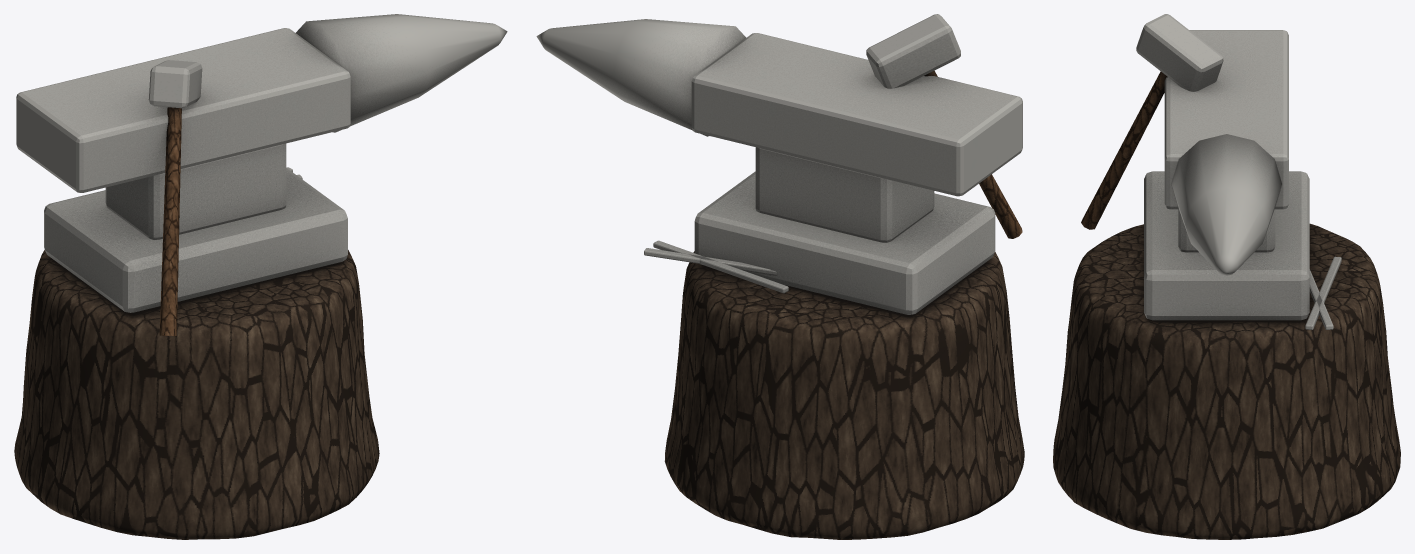
File: escoria_bigorna.glb
The picture shows the model from 3 angles, left to right: view 1: azimuth 30°, elevation 25°; view 2: azimuth 150°, elevation 25°; view 3: azimuth 270°, elevation 25°; orthographic projection. The views are drawn at different scales.
Parts seen in each view (by area): view 1: escoria_bigorna_tronco; view 2: escoria_bigorna_tronco; view 3: escoria_bigorna_tronco.
Part boxes in pixels (x1=…): escoria_bigorna_tronco: x1=14, y1=14, x2=507, y2=539; escoria_bigorna_tronco: x1=536, y1=14, x2=1024, y2=539; escoria_bigorna_tronco: x1=1053, y1=14, x2=1400, y2=539.
Size of the model in its own units: 1.88 by 1.71 by 1.26.
1 material, 1 textured.
